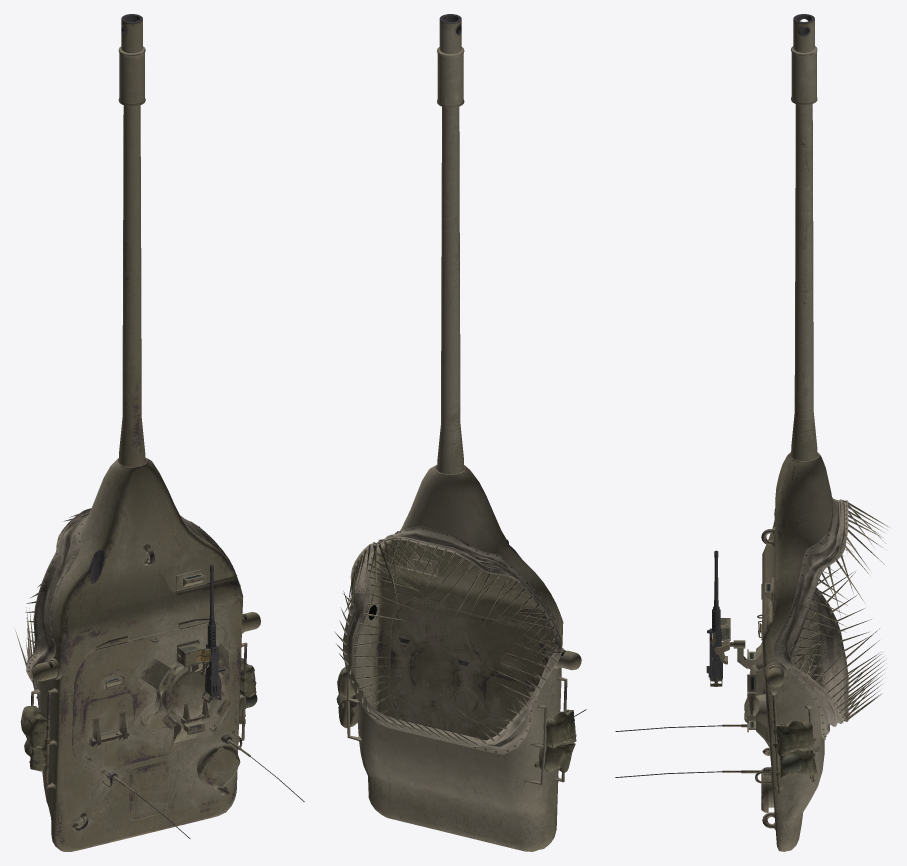
Rendered from Gun_01.glb.
The picture shows the model from 3 angles, left to right: view 1: azimuth 30°, elevation 25°; view 2: azimuth 150°, elevation 25°; view 3: azimuth 270°, elevation 25°; orthographic projection. The views are drawn at different scales.
Parts seen in each view (by area): view 1: set_0_group_0; view 2: set_0_group_0; view 3: set_0_group_0.
Part boxes in pixels (left/top/right/bottom): set_0_group_0: left=15, top=14, right=304, bottom=851; set_0_group_0: left=334, top=14, right=586, bottom=851; set_0_group_0: left=615, top=14, right=889, bottom=851.
Bounding box in the file's own units: 2.98 × 9.93 × 3.13.
Materials: 1 (1 with a texture image).
